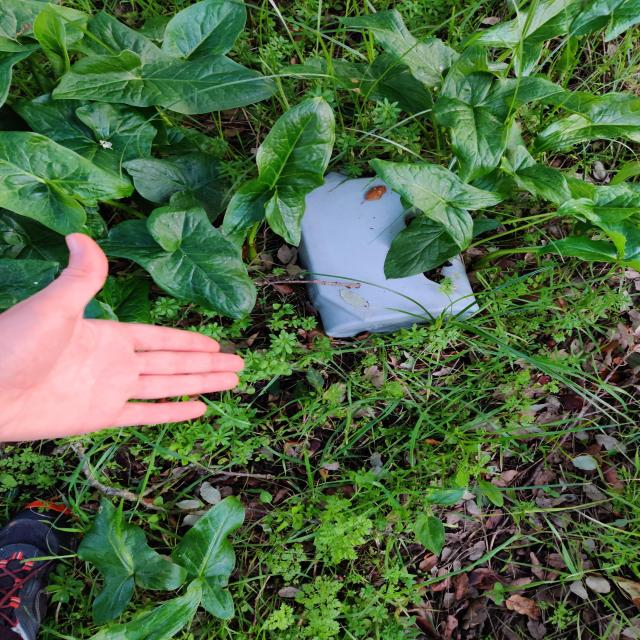litter: (294, 159, 493, 352)
